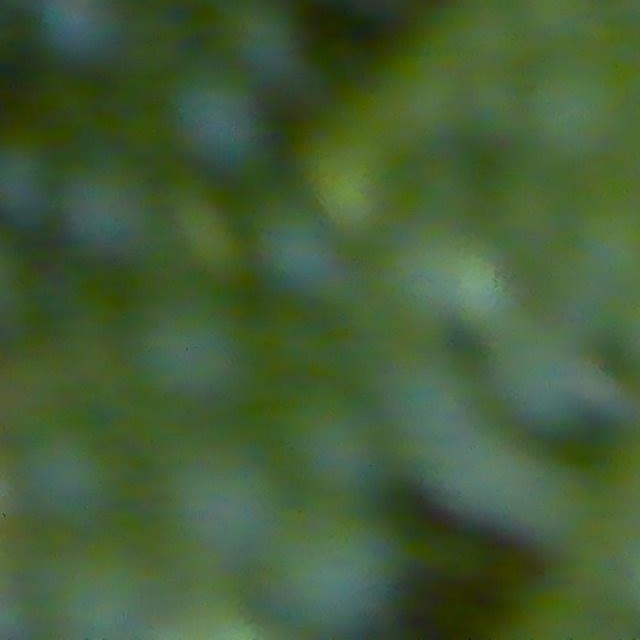SeaGrape: (248, 506, 396, 629), (257, 382, 387, 498), (20, 534, 156, 640), (130, 274, 244, 400), (146, 439, 271, 552), (518, 50, 635, 167), (12, 423, 121, 529), (56, 165, 162, 266), (248, 193, 340, 294), (171, 70, 269, 164), (214, 0, 304, 79), (32, 0, 125, 62), (0, 134, 62, 215)
